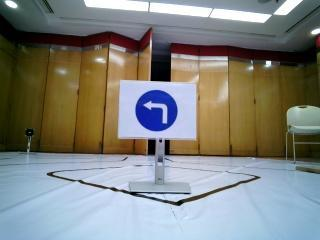left: (130, 83, 197, 143)
